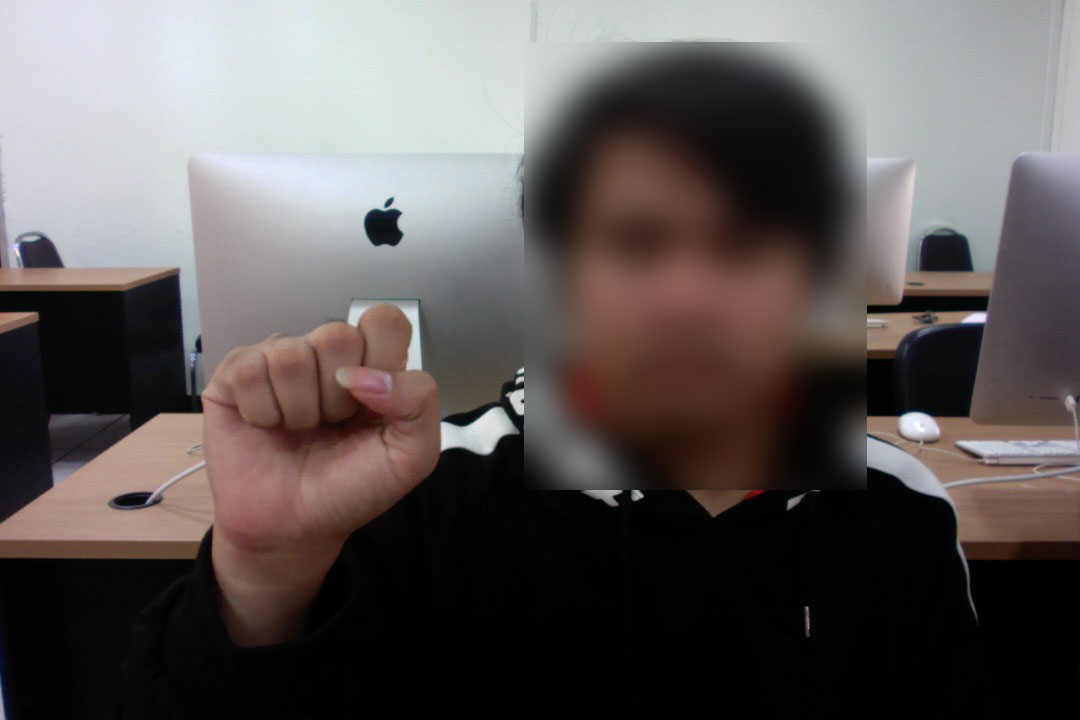sor: (186, 299, 449, 548)
